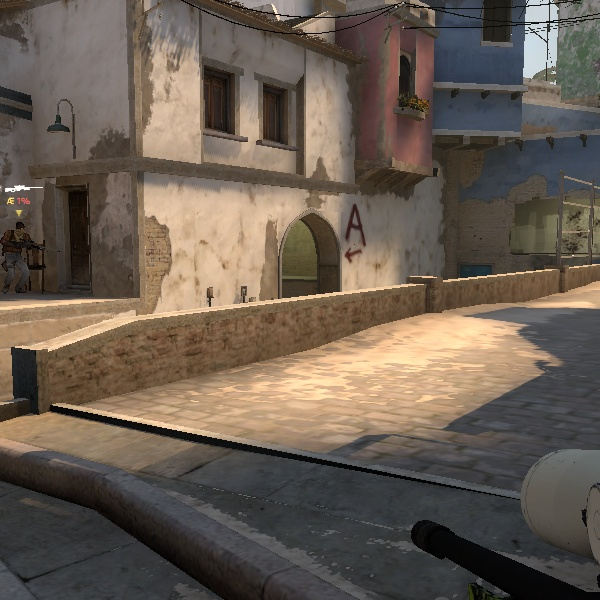t_body: (1, 213, 42, 296)
